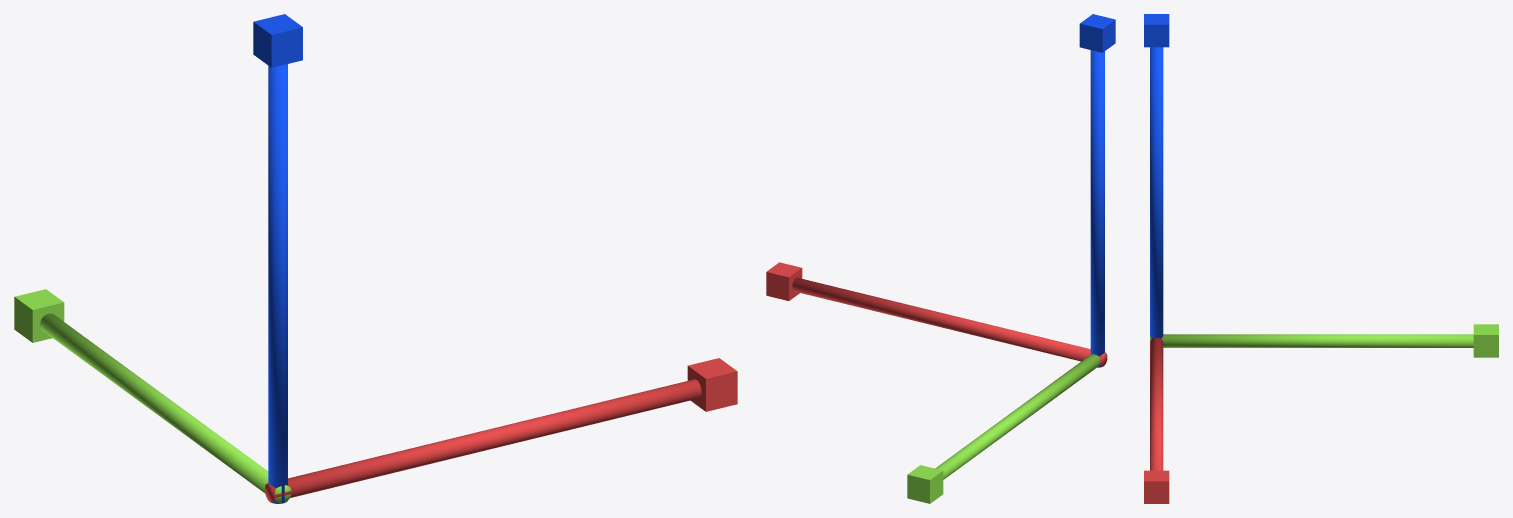
Rendered from scale.fbx.
3 renders of one model, left to right at view 1: azimuth 30°, elevation 25°; view 2: azimuth 150°, elevation 25°; view 3: azimuth 270°, elevation 25°, orthographic. The views are drawn at different scales.
Visible parts, largest first — view 1: X, Z, Y; view 2: Z, X, Y; view 3: Y, Z, X.
Boxes of the visible parts, x1,y1,x2,y2 form: X: [264, 358, 737, 502]; Z: [253, 14, 302, 503]; Y: [14, 289, 291, 503]; Z: [1079, 14, 1115, 367]; X: [766, 262, 1107, 366]; Y: [907, 352, 1105, 503]; Y: [1150, 324, 1498, 357]; Z: [1144, 14, 1169, 338]; X: [1144, 337, 1169, 503].
Bounding box in the file's own units: 29.58 × 29.3 × 28.28.
